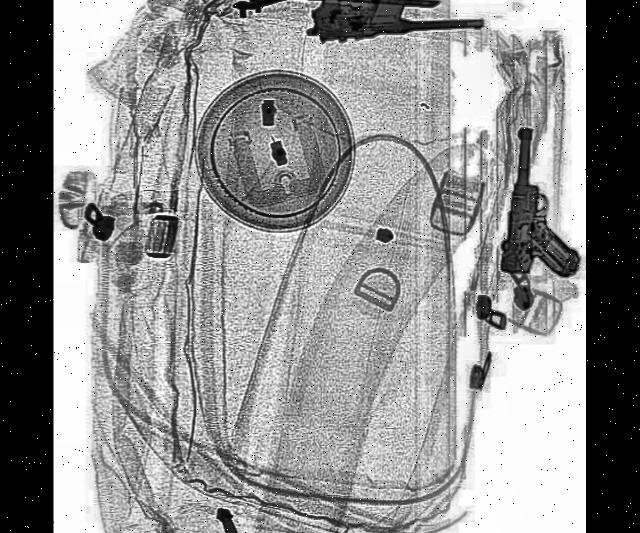Gun: (500, 128, 586, 284), (304, 0, 482, 45)
